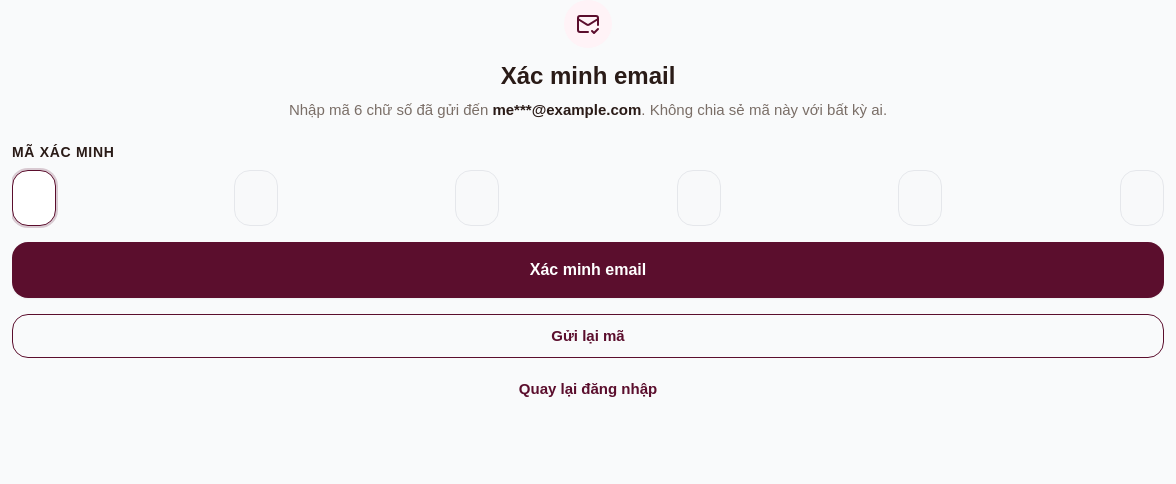
Web email verification › displays invalid OTP error and remaining attempts only in FeedbackAlert without repeating below OtpInput
The image size is (1176, 484).
Expected: the text "me***@example.com" is shown, [492,101,641,118]
Type "123456" into the field labelled "Mã xác minh" at [34, 198], box [12,170,56,226]
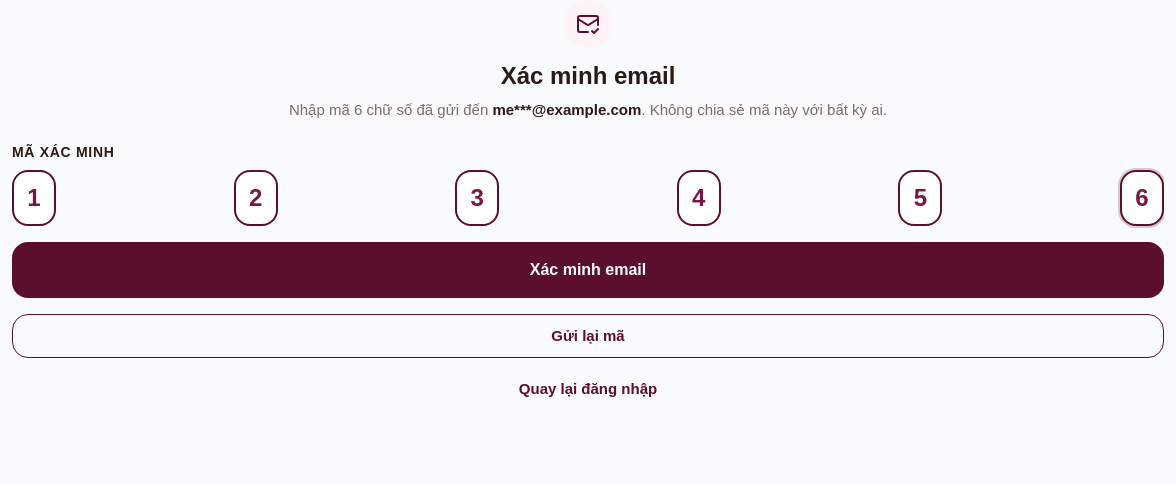
Click the button "Xác minh email" at [588, 270], box [12,242,1164,298]
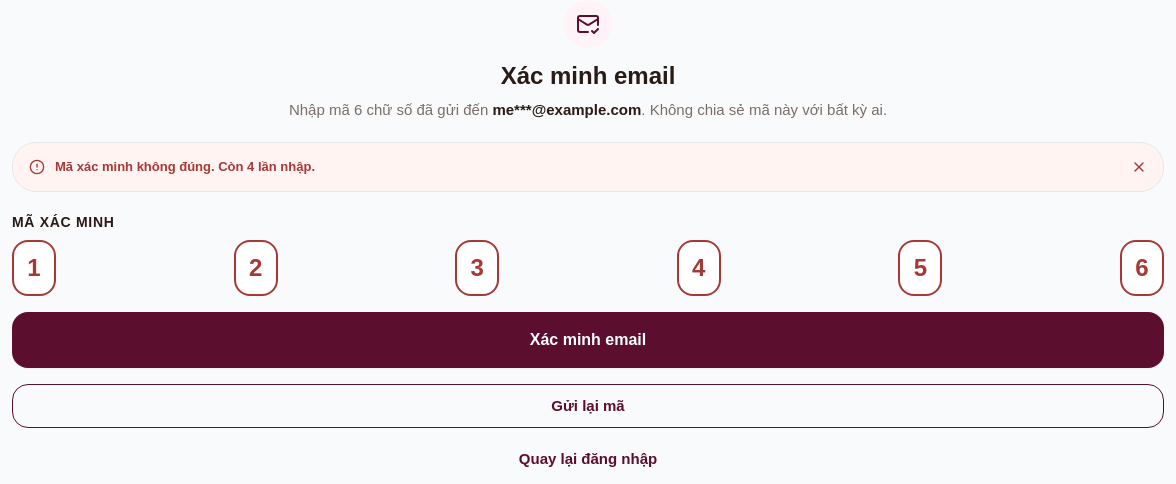
Expected: the text "Mã xác minh không đúng. Còn 4 lần nhập." is shown once, [55,159,315,174]
